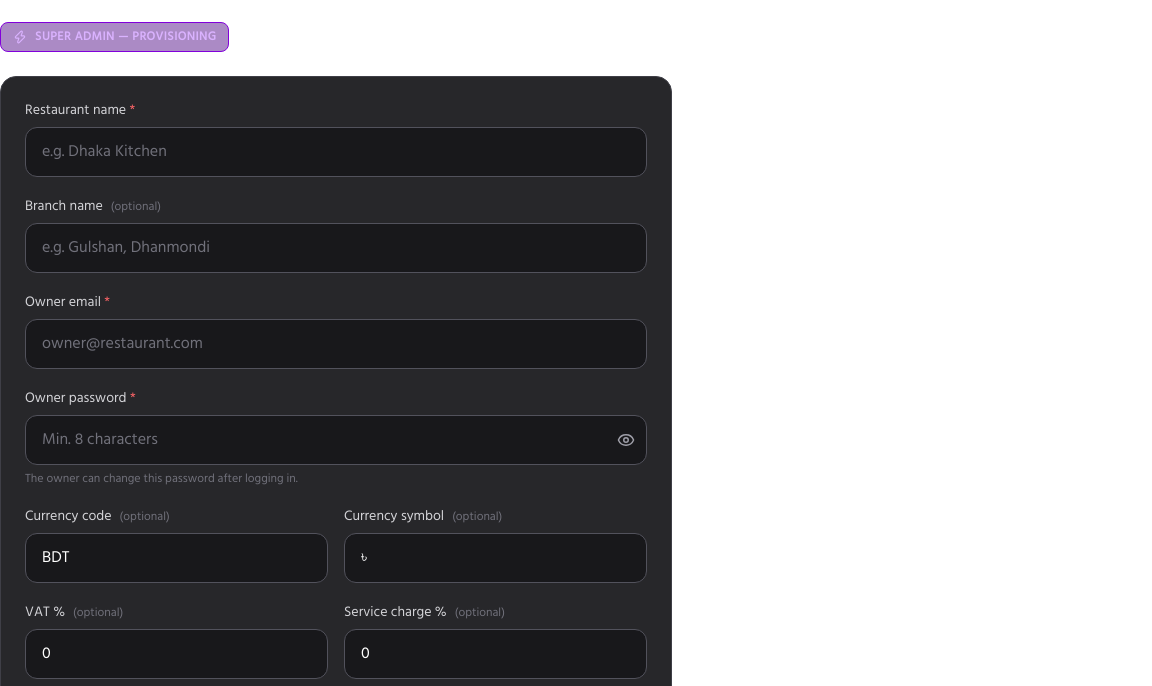
Test: ProvisionRestaurantForm — submission › shows success state after successful submission
In the field labelled "Restaurant name *": (336, 152) [25,127,647,177], type "Test Restaurant"
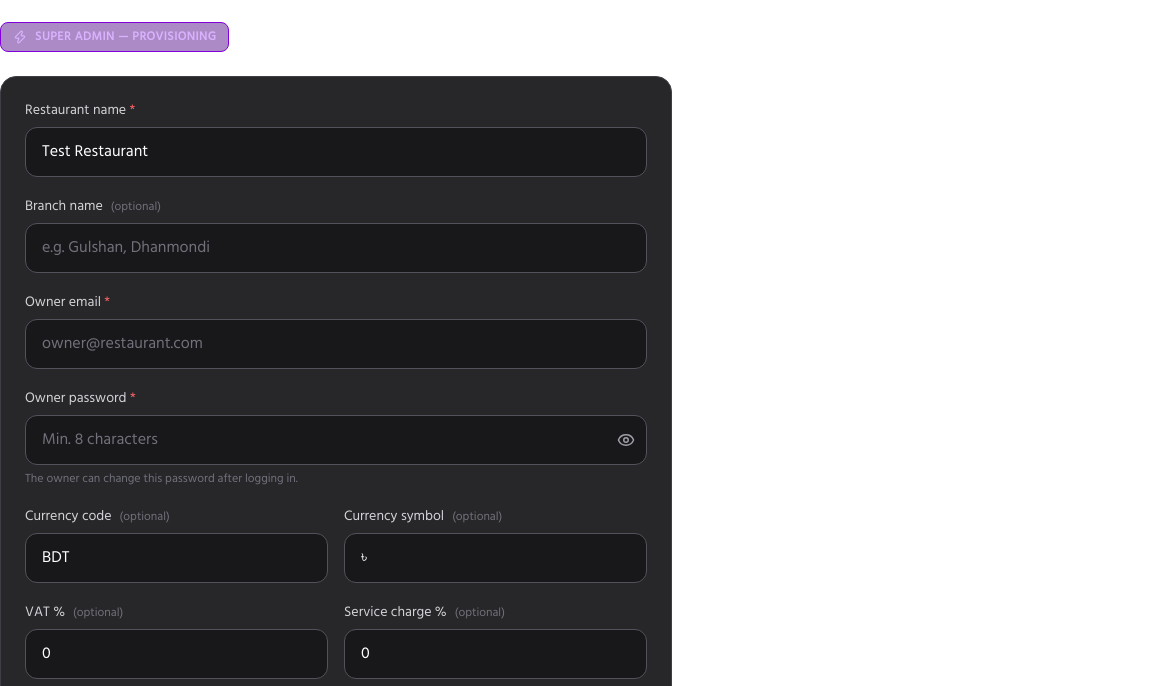
In the field labelled "Owner email *": (336, 344) [25,319,647,369], type "owner@test.com"
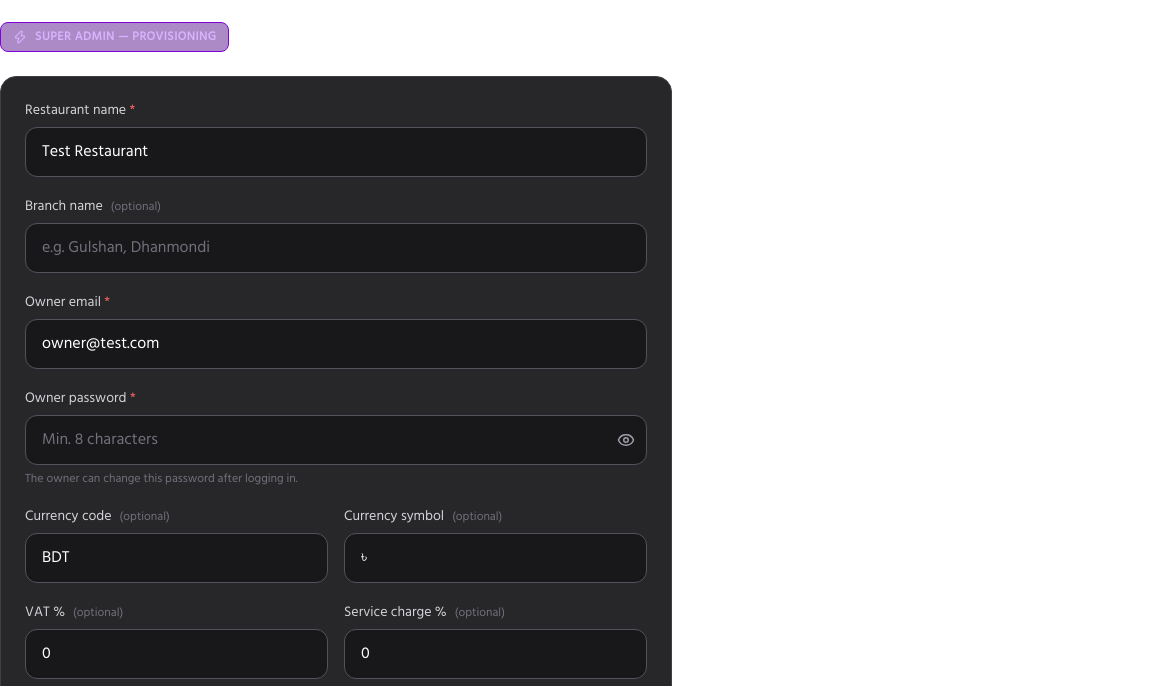
In the password field labelled "Owner password *": (336, 440) [25,415,647,465], type "password123"
(page scrolled)
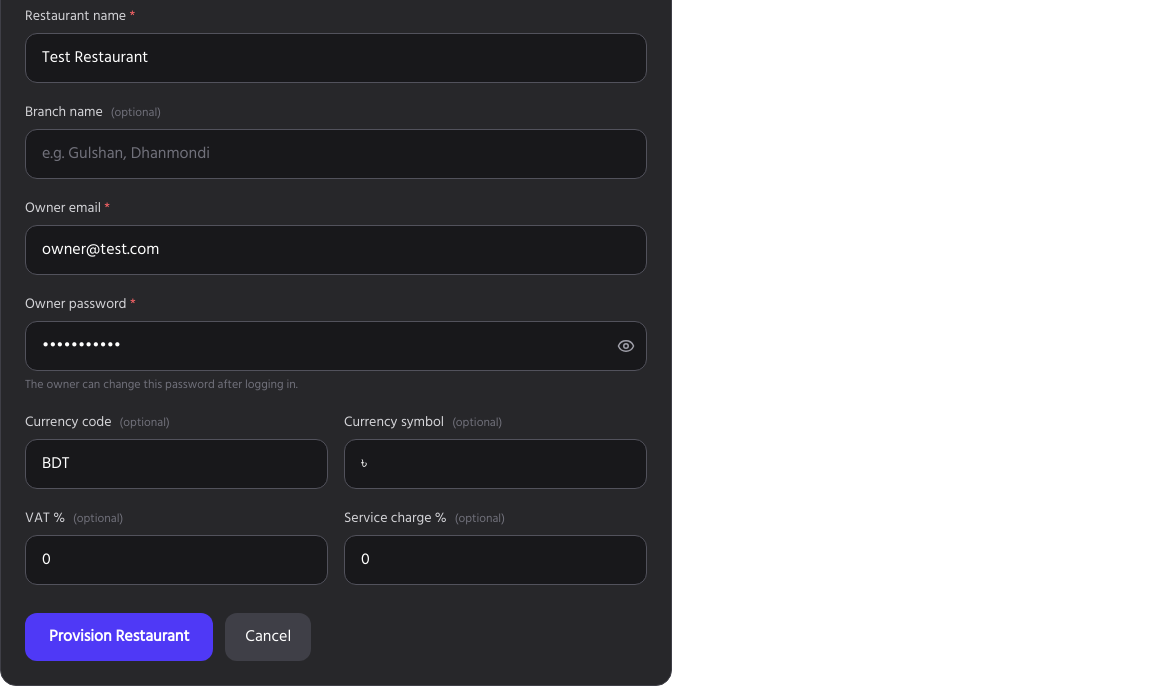
Click the button "Provision Restaurant": (119, 637) [25,613,213,661]
(page scrolled)
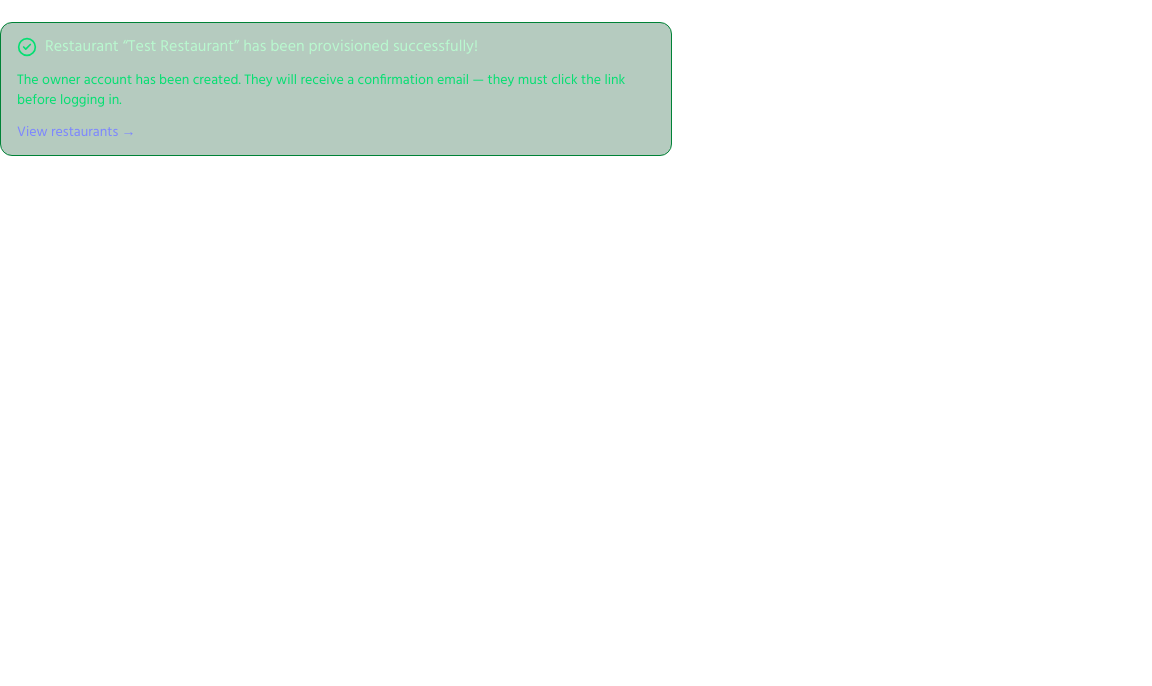
Check: the link "View restaurants →" is shown, box [17,121,136,144]
